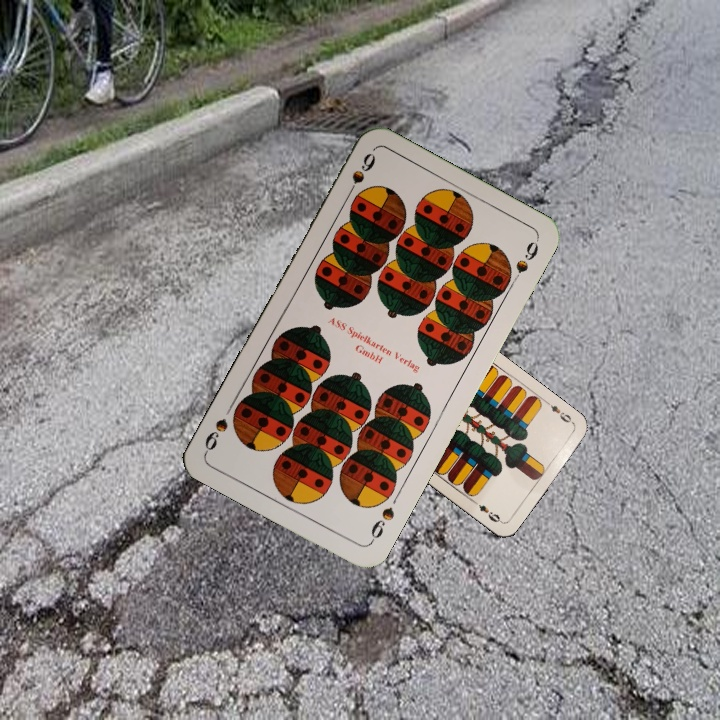E9: (542, 398, 577, 427)
S9: (341, 149, 378, 202), (366, 502, 397, 546)
